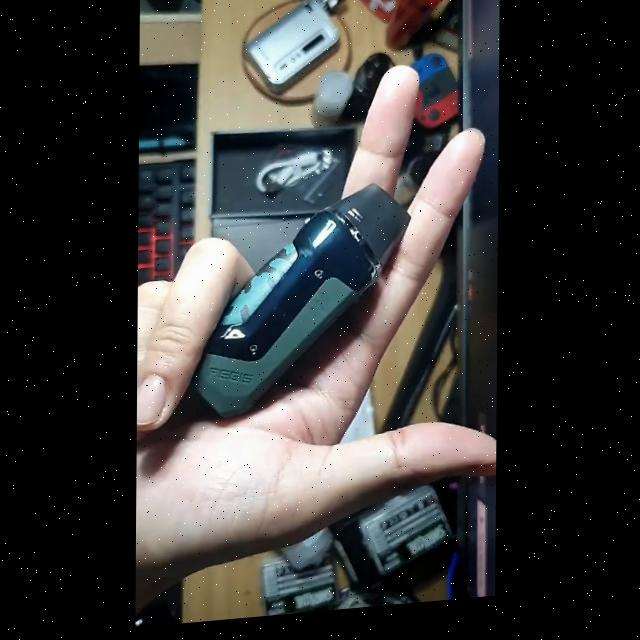vape: (195, 189, 411, 431), (243, 0, 344, 100)
